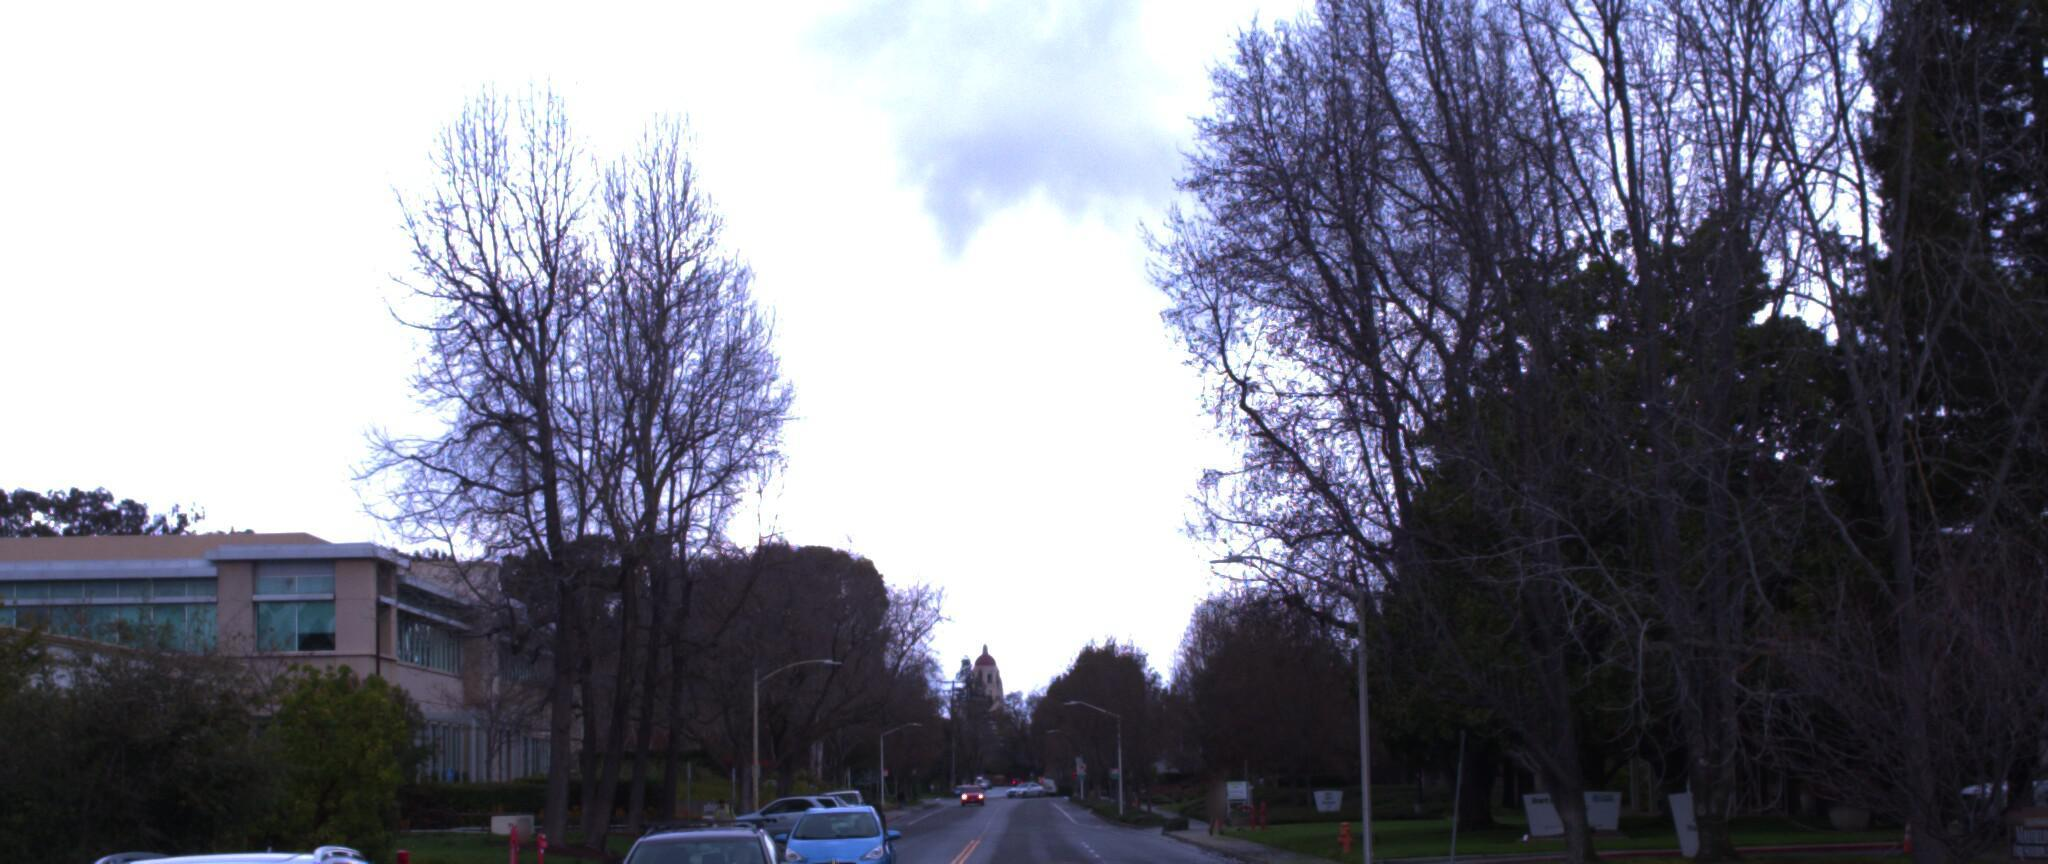car: (0, 827, 481, 864), (596, 807, 818, 864), (1932, 747, 2048, 839), (778, 796, 899, 864)
